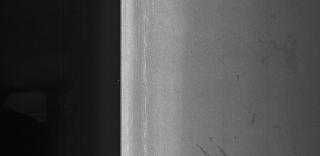water spot: (192, 129, 232, 155)
